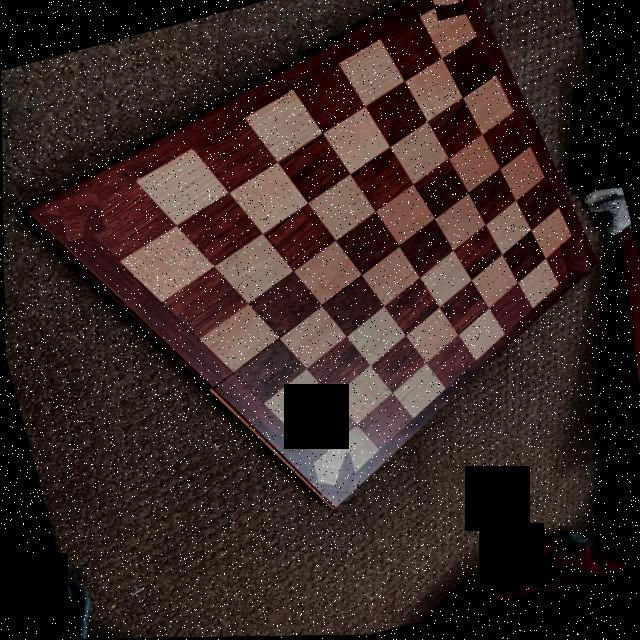chess-table-corners: (54, 190, 104, 242), (310, 452, 357, 498), (558, 240, 590, 280), (429, 0, 473, 22)
